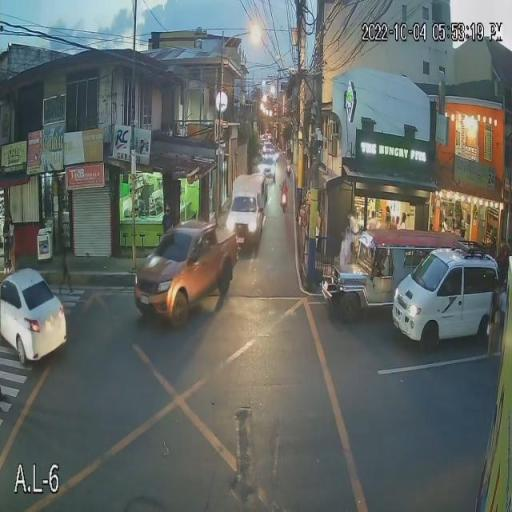motorcycle: (278, 192, 290, 210)
rider: (281, 180, 289, 194)
